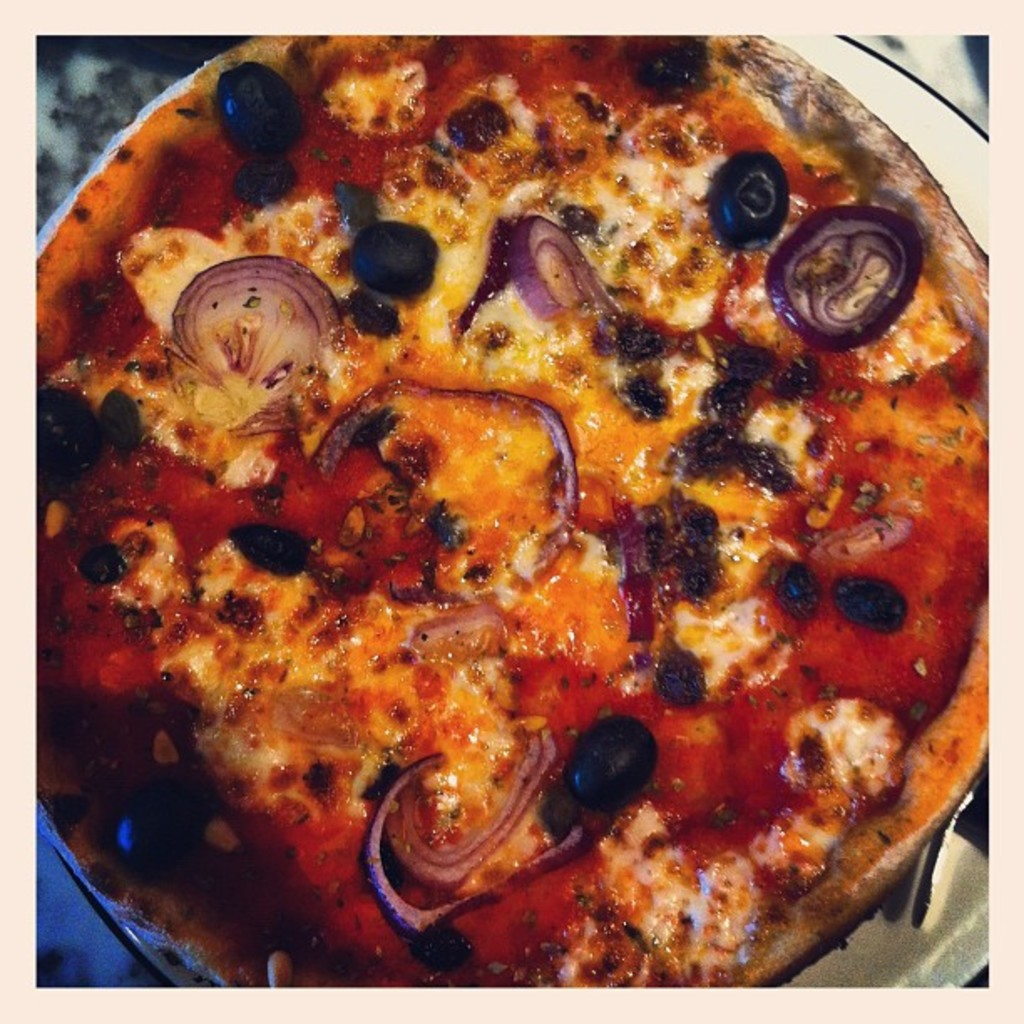Pizza: (33, 28, 992, 993)
